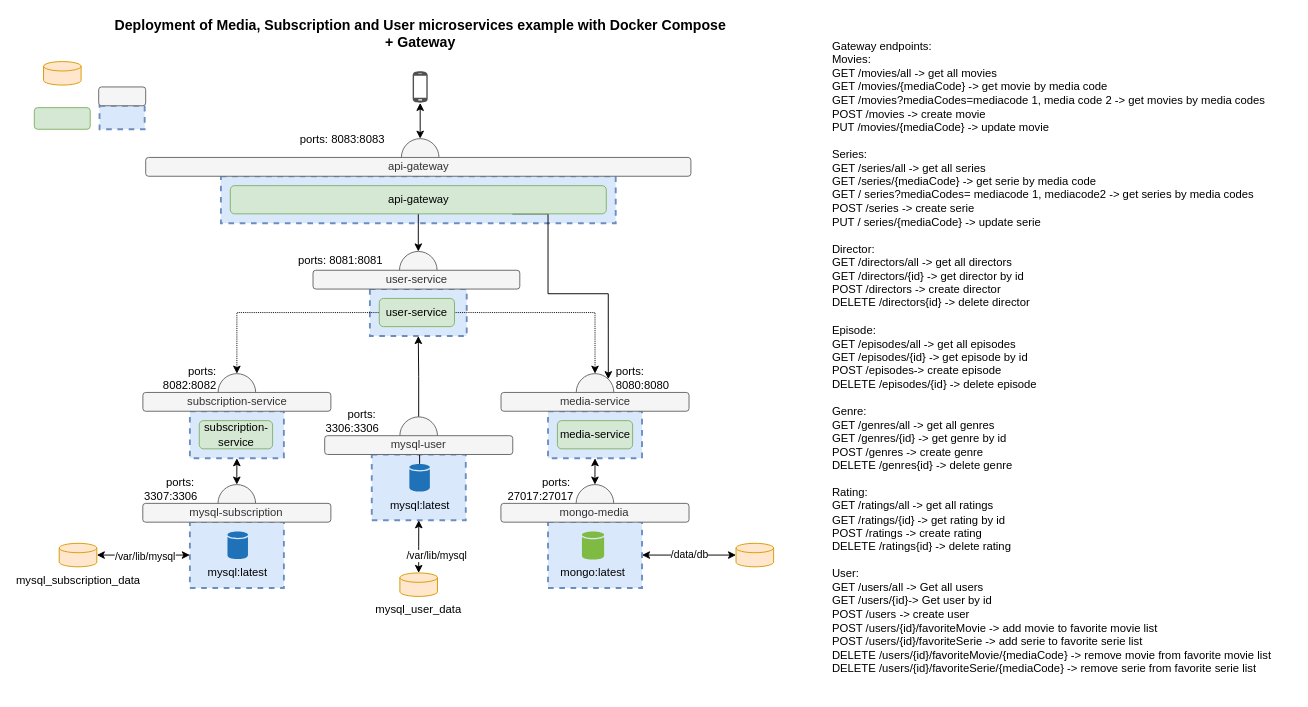
This 1308x707 diagram has some shape labels left out. The shapes that lost their labels are listed below. From the top down, each one's centre as x and y in pixels, then its label:
the point at 62,73: volume
the point at 122,96: service
the point at 61,118: container
the point at 121,117: POD
the point at 754,554: mongodb_media_data
